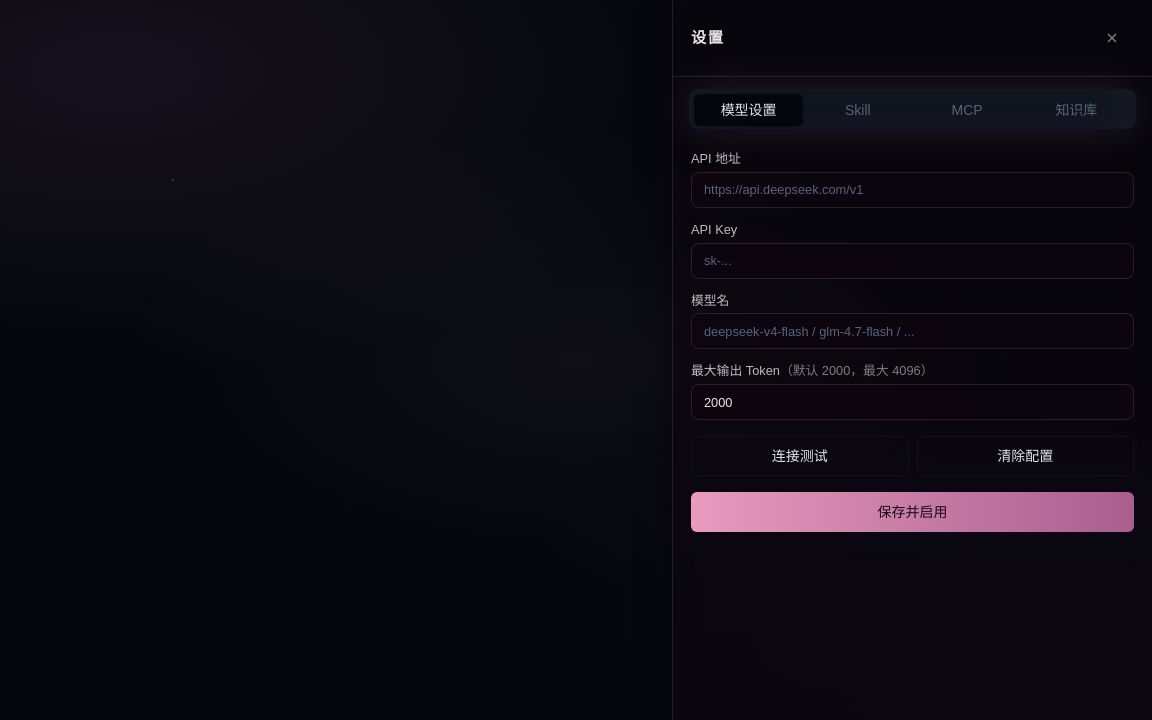
Test: AI 聊天 T-B：API Key 掩码输入框 › B-5. 三字段不全（空 baseURL 或空 model）→ 点击保存不触发 saveCustomAiConfig，显示错误提示
The image size is (1152, 720).
Type "sk-abcdefgh1234567890uvwxyzIJKL" into the field with placeholder "sk-...".
click(912, 261); type("sk-abcdefgh1234567890uvwxyzIJKL")  # box x1=691 y1=243 x2=1134 y2=279
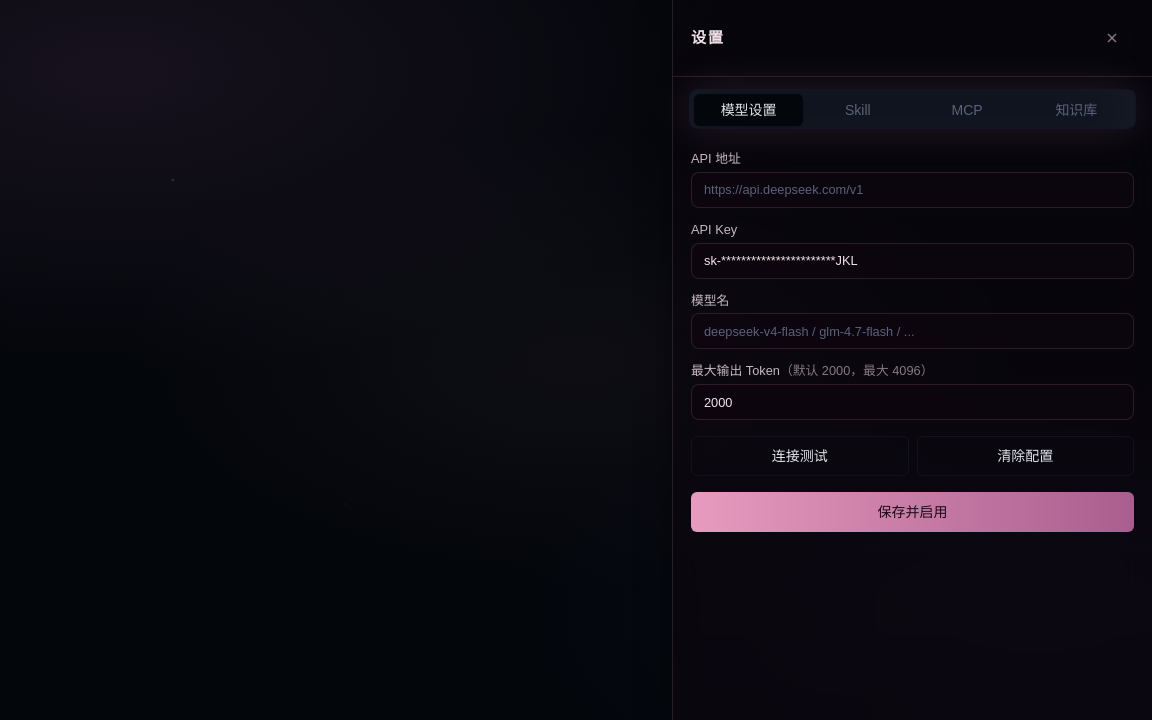
Click the button "保存并启用".
click(912, 512)  # box x1=691 y1=492 x2=1134 y2=532
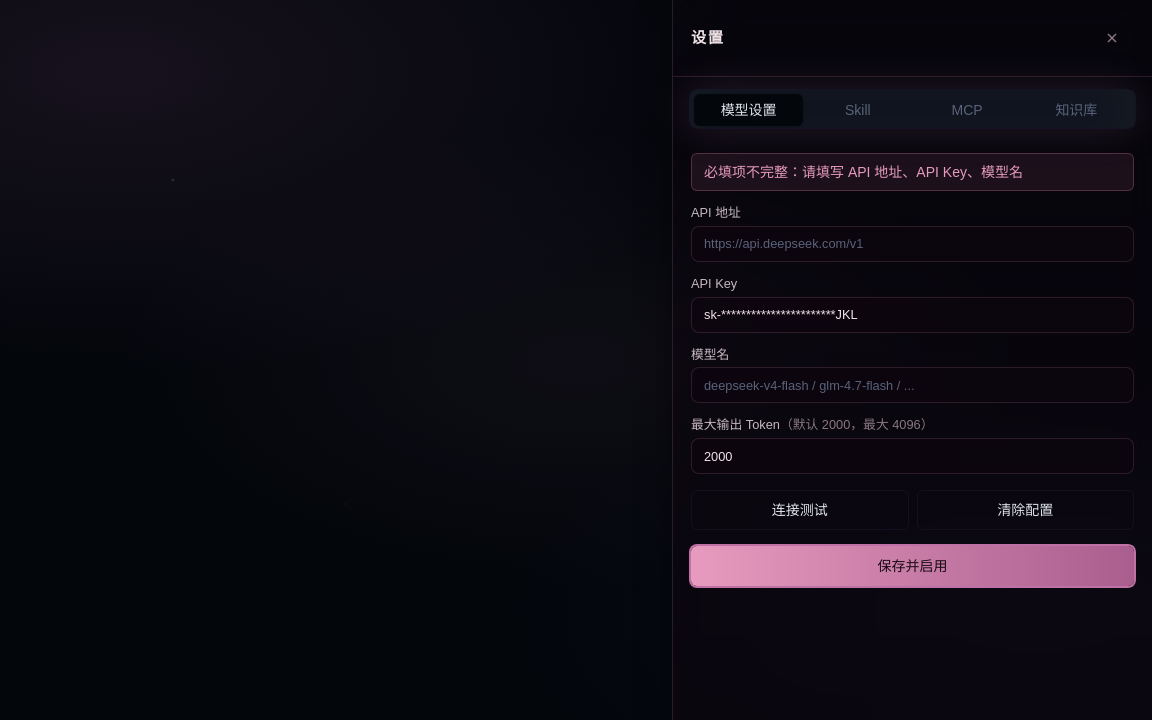
Expected: the text "必填项不完整：请填写 API 地址、API Key、模型名" is shown, x1=691 y1=153 x2=1134 y2=191
